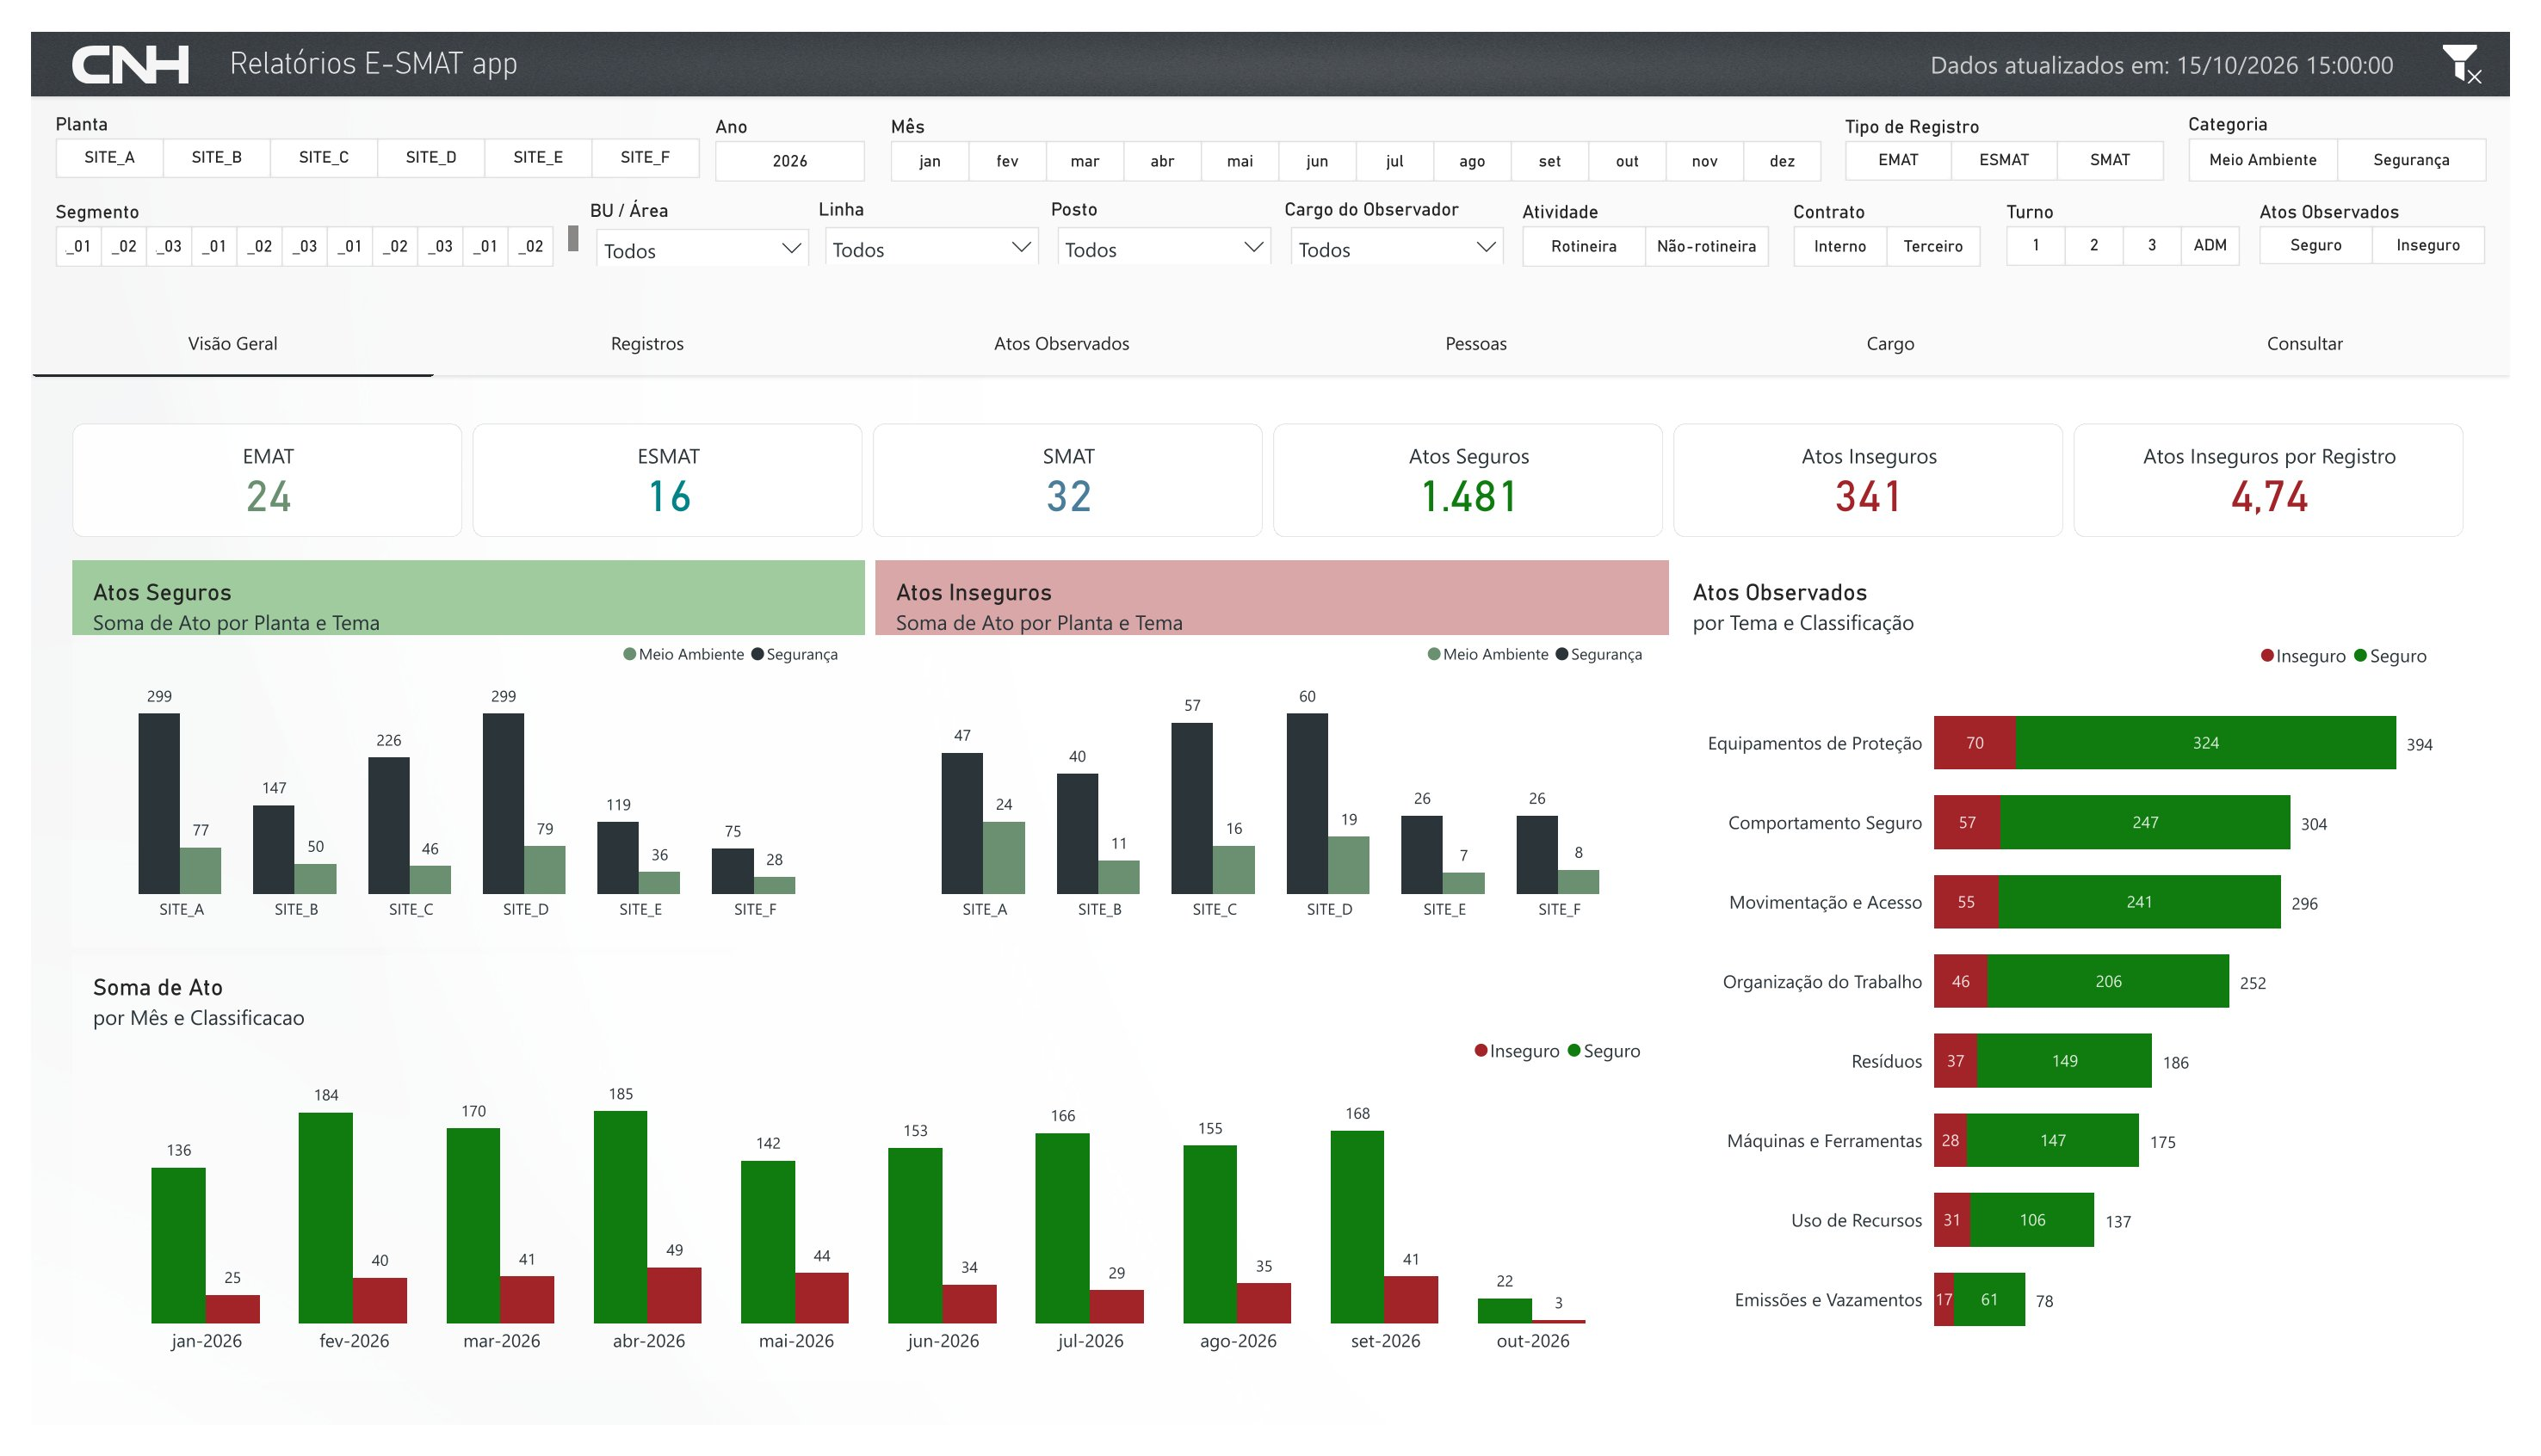

The page's visual inventory and layout, read from the dashboard file:
{"tool":"powerbi","page":{"name":"Visão Geral","canvas":[1920,1080],"ordinal":0},"visuals":[{"type":"shape","box":[0,0,1920,266.7],"z":0},{"type":"image","box":[0,0,1920.6,50.5],"z":1000},{"type":"textbox","box":[154.3,11.4,300,38.6],"z":2000},{"type":"image","box":[1864.7,10.6,36.7,30],"z":3000},{"type":"image","box":[0,10.6,154.3,30.6],"z":4000},{"type":"advancedSlicerVisual","fields":{"Values":["d_cabecalho.Planta"]},"box":[18.6,63.8,504.1,50.5],"z":5000},{"type":"advancedSlicerVisual","fields":{"Values":["d_cabecalho.Ano"]},"box":[530.1,66,115.6,51.4],"z":6000},{"type":"advancedSlicerVisual","title":"Tipo de Registro","fields":{"Values":["d_cabecalho.TipoAuditoria"]},"box":[1405,66,249.5,49.5],"z":7000},{"type":"advancedSlicerVisual","title":"Mês","fields":{"Values":["d_calendario.nome_mes_abrev"]},"box":[665.8,66,731.9,51.4],"z":8000},{"type":"advancedSlicerVisual","title":"Categoria","fields":{"Values":["f_formulario.Tema"]},"box":[1671,64.2,231.1,53.2],"z":9000},{"type":"slicer","title":"BU / Área","fields":{"Values":["d_cabecalho.BUarea"]},"box":[433.3,130.7,174.7,51],"z":10000},{"type":"advancedSlicerVisual","title":"Segmento","fields":{"Values":["d_cabecalho.Segmento"]},"box":[18.8,131.6,405.7,51],"z":11000},{"type":"slicer","title":"Linha","fields":{"Values":["d_cabecalho.Linha"]},"box":[610,130,175.7,51],"z":12000},{"type":"slicer","title":"Posto","fields":{"Values":["d_cabecalho.Posto"]},"box":[790,130,175.7,51],"z":13000},{"type":"slicer","title":"Cargo do Observador","fields":{"Values":["d_cabecalho.Cargo"]},"box":[971.4,130,174.3,51],"z":14000},{"type":"advancedSlicerVisual","title":"Atividade","fields":{"Values":["d_cabecalho.TipoAtividade"]},"box":[1155.2,131.6,192.1,51],"z":15000},{"type":"advancedSlicerVisual","title":"Contrato","fields":{"Values":["d_cabecalho.TipoContrato"]},"box":[1364.7,132.1,146.7,51.4],"z":16000},{"type":"advancedSlicerVisual","title":"Atos Observados","fields":{"Values":["d_classificacao.Classificacao"]},"box":[1726.1,131.6,176,49.7],"z":17000},{"type":"pageNavigator","box":[0,217.3,1920,50.7],"z":18000},{"type":"advancedSlicerVisual","title":"Turno","fields":{"Values":["d_cabecalho.Turno"]},"box":[1529.8,132.1,183.4,49.5],"z":19000},{"type":"barChart","title":"Atos Observados","fields":{"Category":["d_questionario.Nome_categoria"],"Series":["d_classificacao.Classificacao"],"Y":["Sum(d_classificacao.Ato)"]},"box":[1271.4,410,605.7,635.7],"z":20000},{"type":"clusteredColumnChart","title":"Atos Inseguros","fields":{"Category":["d_classificacao.Planta"],"Series":["d_classificacao.Tema"],"Y":["Sum(d_classificacao.Ato)"]},"box":[654.3,410,614.3,300],"z":21000},{"type":"clusteredColumnChart","title":"Atos Seguros","fields":{"Category":["d_classificacao.Planta"],"Series":["d_classificacao.Tema"],"Y":["Sum(d_classificacao.Ato)"]},"box":[32,410,614,300],"z":22000},{"type":"cardVisual","fields":{"Data":["d_medidas.EMAT","d_medidas.ESMAT","d_medidas.SMAT","d_medidas.AtosSeguros","d_medidas.AtosInseguros","d_medidas.Média de Atos Observados por Registro"]},"box":[32,304,1852,88],"z":23000},{"type":"clusteredColumnChart","fields":{"Category":["d_calendario.periodo"],"Series":["d_classificacao.Classificacao"],"Y":["Sum(d_classificacao.Ato)"]},"box":[32.2,716,1235.8,330.4],"z":24000},{"type":"cardVisual","fields":{"Data":["d_medidas.Ultima_Atualizacao"]},"box":[1268,16,578,18],"z":25000}]}

Visuals, with their boxes in screenshot pixels (x1, y1, x2, y2), scaled from the page's 1920x1080 canvas onto the 2541x1456 screenshot:
shape: 0:0:2540:360
image: 0:0:2540:68
textbox: 204:15:601:67
image: 2468:15:2516:55
image: 0:15:204:56
advancedSlicerVisual - d_cabecalho.Planta: 25:86:692:154
advancedSlicerVisual - d_cabecalho.Ano: 702:89:855:158
"Tipo de Registro" advancedSlicerVisual: 1859:89:2190:156
"Mês" advancedSlicerVisual: 881:89:1850:158
"Categoria" advancedSlicerVisual: 2211:87:2517:158
"BU / Área" slicer: 573:176:805:245
"Segmento" advancedSlicerVisual: 25:177:562:246
"Linha" slicer: 807:176:1040:244
"Posto" slicer: 1046:176:1278:244
"Cargo do Observador" slicer: 1286:176:1517:244
"Atividade" advancedSlicerVisual: 1529:177:1783:246
"Contrato" advancedSlicerVisual: 1806:178:2000:247
"Atos Observados" advancedSlicerVisual: 2284:177:2517:244
pageNavigator: 0:293:2540:361
"Turno" advancedSlicerVisual: 2025:178:2267:245
"Atos Observados" barChart: 1683:552:2484:1410
"Atos Inseguros" clusteredColumnChart: 866:552:1679:957
"Atos Seguros" clusteredColumnChart: 42:552:855:957
cardVisual - d_medidas.EMAT x d_medidas.ESMAT: 42:410:2494:528
clusteredColumnChart - d_calendario.periodo x d_classificacao.Classificacao: 43:966:1679:1410
cardVisual - d_medidas.Ultima_Atualizacao: 1679:22:2443:46
